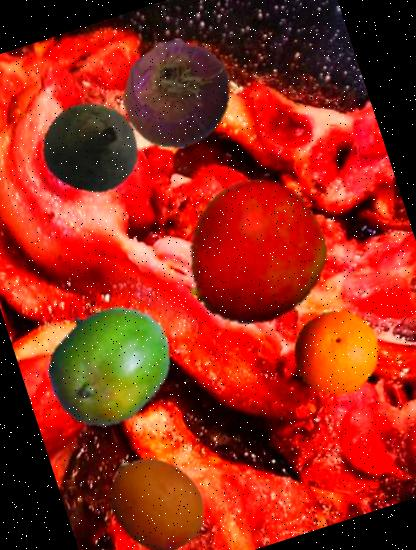Apricot: (92, 441, 219, 550)
Beetroot: (29, 82, 160, 212)
Mango: (28, 283, 188, 443)
Nectarine: (162, 161, 346, 344)
Onion: (107, 24, 245, 162)
Orange: (282, 297, 390, 405)
